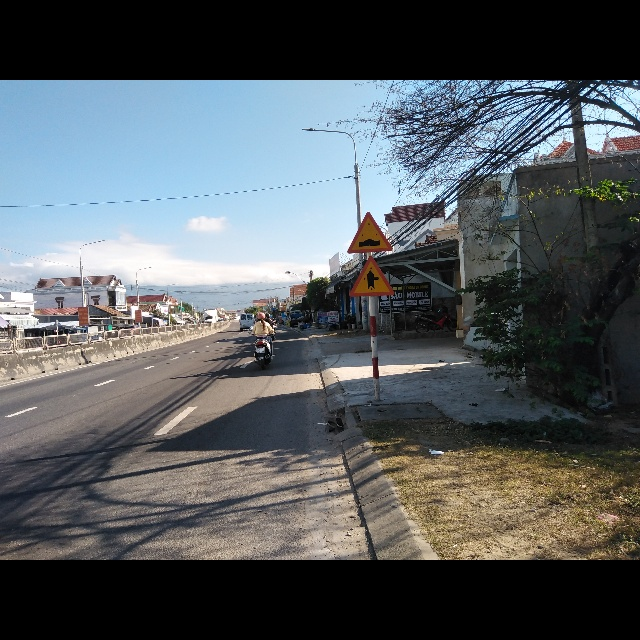Giao nhau với đường không ưu tiên: (349, 257, 396, 297)
Đường không bằng phẳng: (346, 210, 395, 254)
